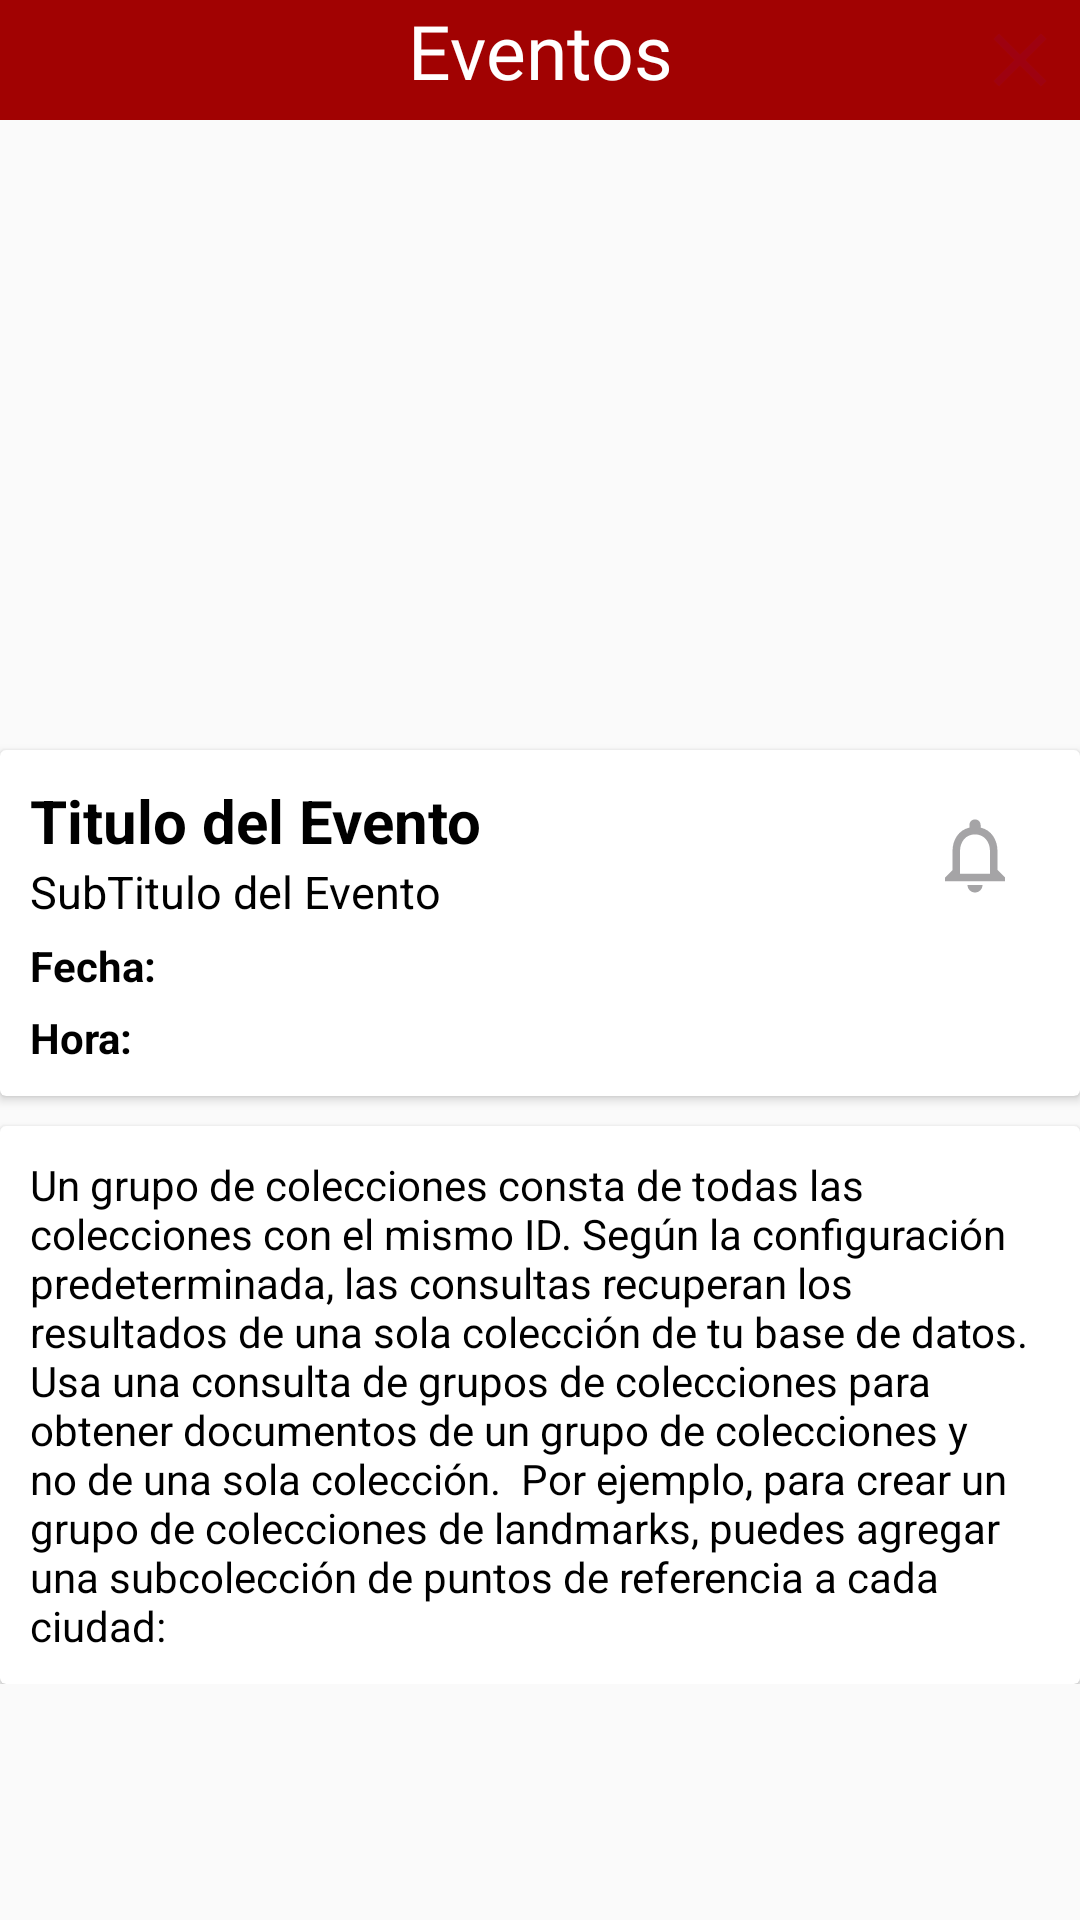

Screen size 1080*1920. Icon name, then its box in pixels as (x1, y1, x2, y2):
notifications: (945, 819, 1005, 893)
